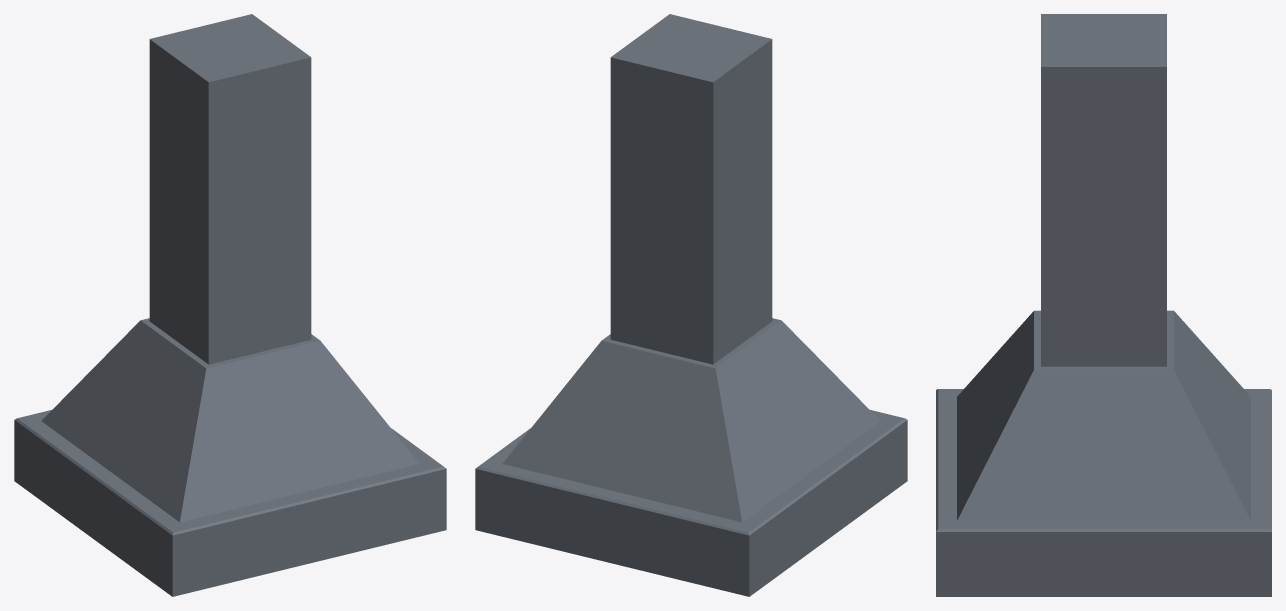
The model's file is liesituuletin_GJ22.fbx.
3 views of the same model, side by side, from view 1: azimuth 30°, elevation 25°; view 2: azimuth 150°, elevation 25°; view 3: azimuth 270°, elevation 25° (orthographic). The views are drawn at different scales.
Parts seen in each view (by area): view 1: Liesituuletin; view 2: Liesituuletin; view 3: Liesituuletin.
Boxes of the visible parts, box(x1,y1,x2,y2) form: Liesituuletin: box(14, 14, 446, 596); Liesituuletin: box(475, 14, 907, 596); Liesituuletin: box(936, 14, 1271, 596).
Bounding box in the file's own units: 100 × 159 × 100.
